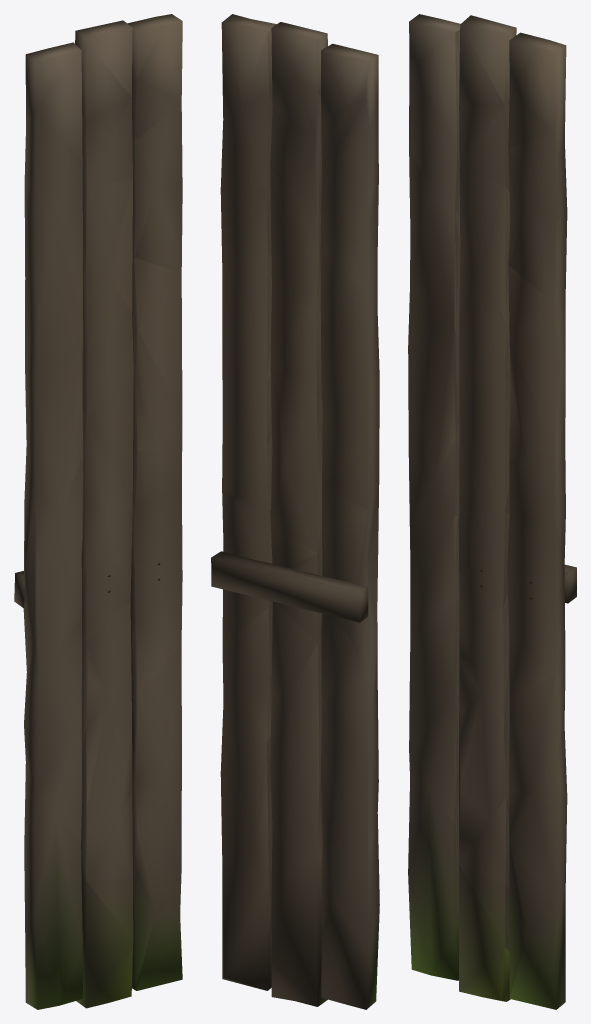
File: mire_fence_board_lod2.glb
3 views of the same model, side by side, from view 1: azimuth 30°, elevation 25°; view 2: azimuth 150°, elevation 25°; view 3: azimuth 330°, elevation 25° (orthographic).
Parts seen in each view (by area): view 1: mire_fence_board.001; view 2: mire_fence_board.001; view 3: mire_fence_board.001.
Part boxes in pixels (bbox=[...]): mire_fence_board.001: bbox=[14, 14, 182, 1009]; mire_fence_board.001: bbox=[211, 14, 379, 1009]; mire_fence_board.001: bbox=[408, 14, 576, 1009].
Bounding box in the file's own units: 12.06 × 74.46 × 2.98.
